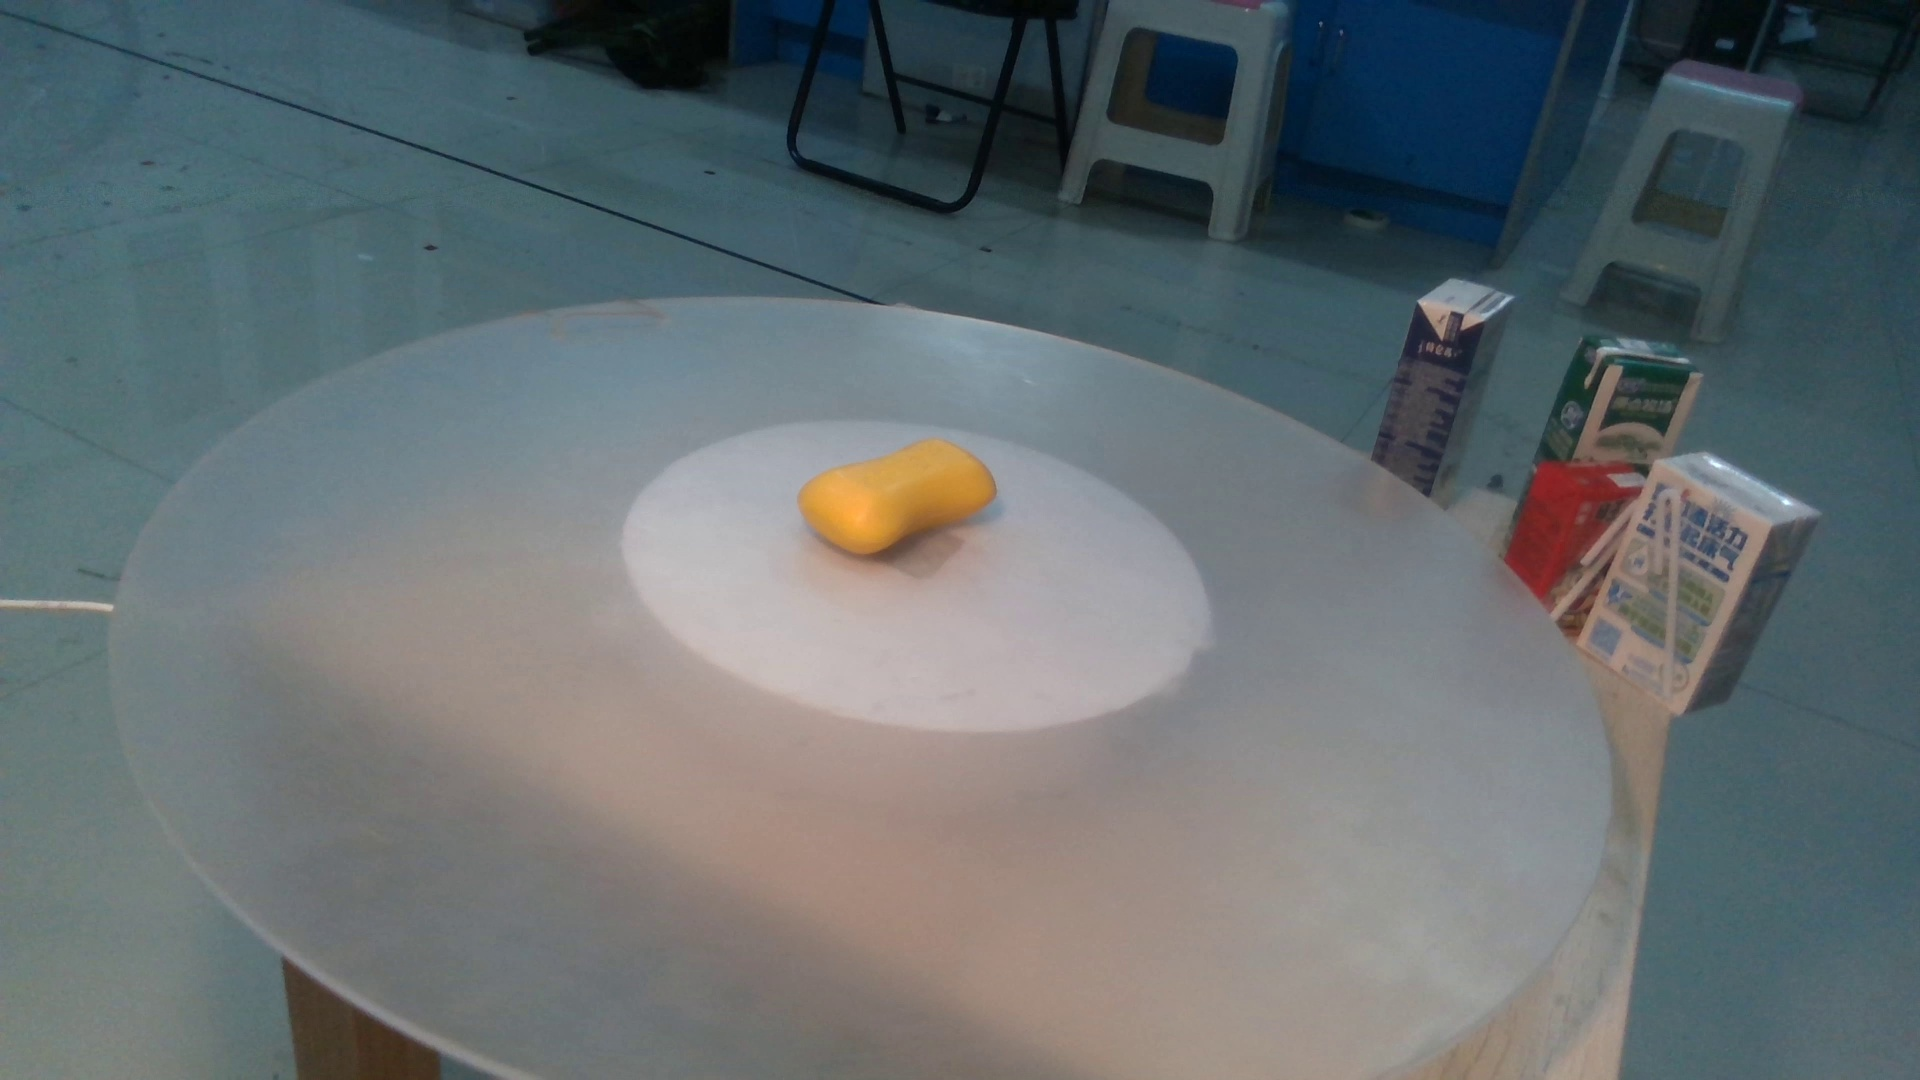CA003_1: (786, 407, 1029, 579)
